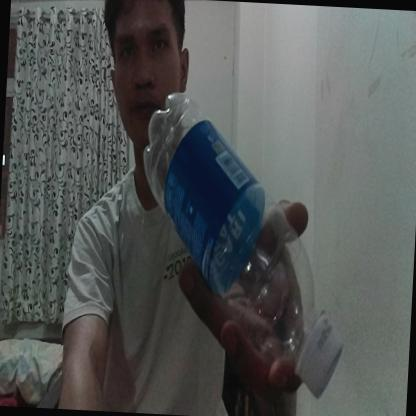plastic_bottles: (128, 82, 358, 403)
